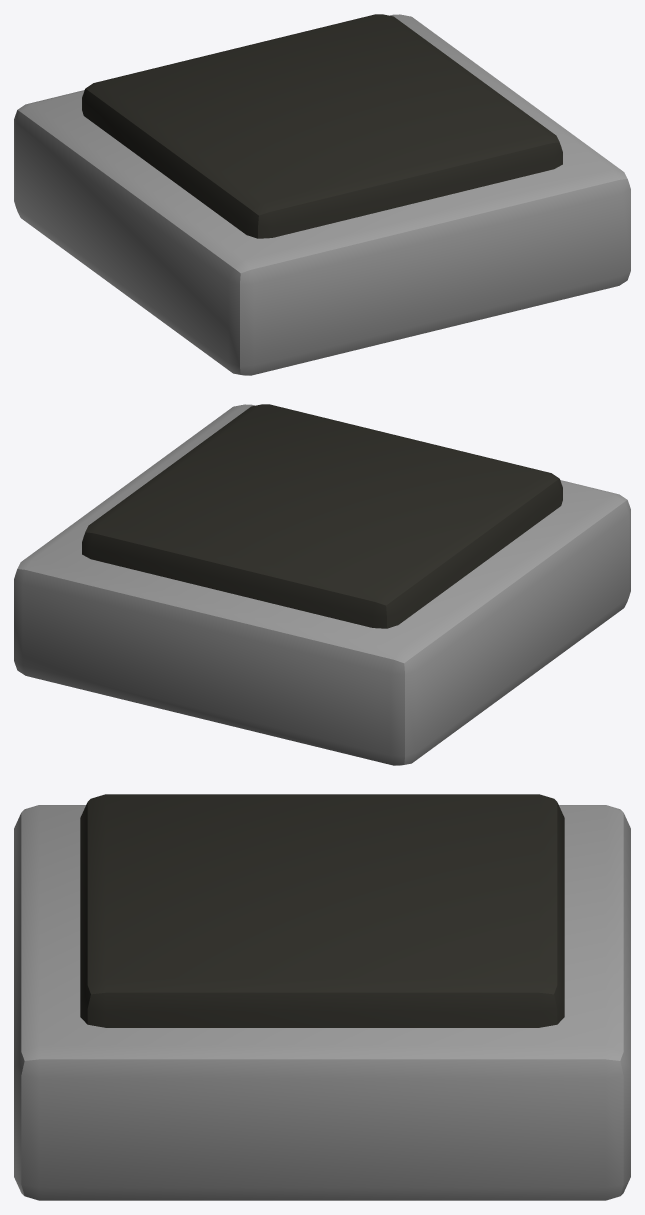
File: Button_Pressed.fbx
3 renders of one model, top to bottom at view 1: azimuth 30°, elevation 25°; view 2: azimuth 150°, elevation 25°; view 3: azimuth 270°, elevation 25°, orthographic. The views are drawn at different scales.
Visible parts, largest first — view 1: Button_Pressed; view 2: Button_Pressed; view 3: Button_Pressed.
Part boxes in pixels (x1,y1,x2,y2): Button_Pressed: (14, 14, 630, 375); Button_Pressed: (14, 404, 630, 765); Button_Pressed: (14, 794, 630, 1200).
Size of the model in its own units: 1.32 by 0.4569 by 1.32.
1 material, 1 textured.
